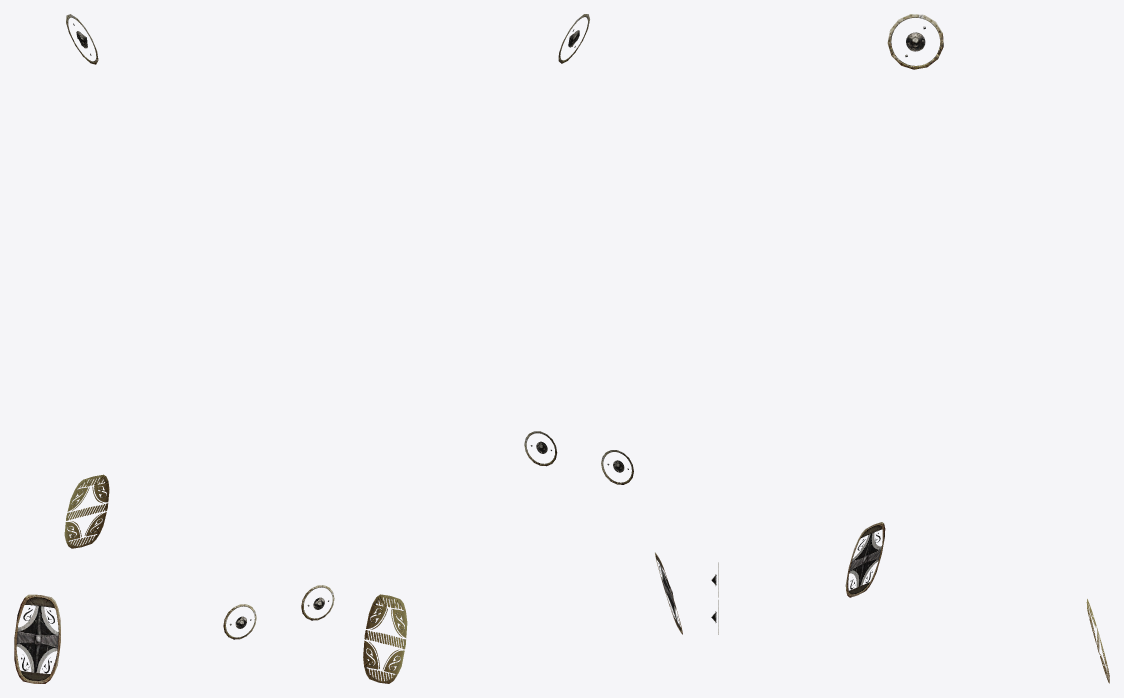
The model's file is iber_scout_tower.dae.
The picture shows the model from 3 angles, left to right: view 1: azimuth 30°, elevation 25°; view 2: azimuth 150°, elevation 25°; view 3: azimuth 270°, elevation 25°; orthographic projection. The views are drawn at different scales.
Visible parts, largest first — view 1: towershield05; view 2: towershield05; view 3: towershield05.
Part boxes in pixels (bbox=[...]): towershield05: bbox=[14, 14, 334, 683]; towershield05: bbox=[363, 14, 682, 683]; towershield05: bbox=[711, 14, 1109, 683].
Size of the model in its own units: 8.14 by 20.46 by 12.01.
